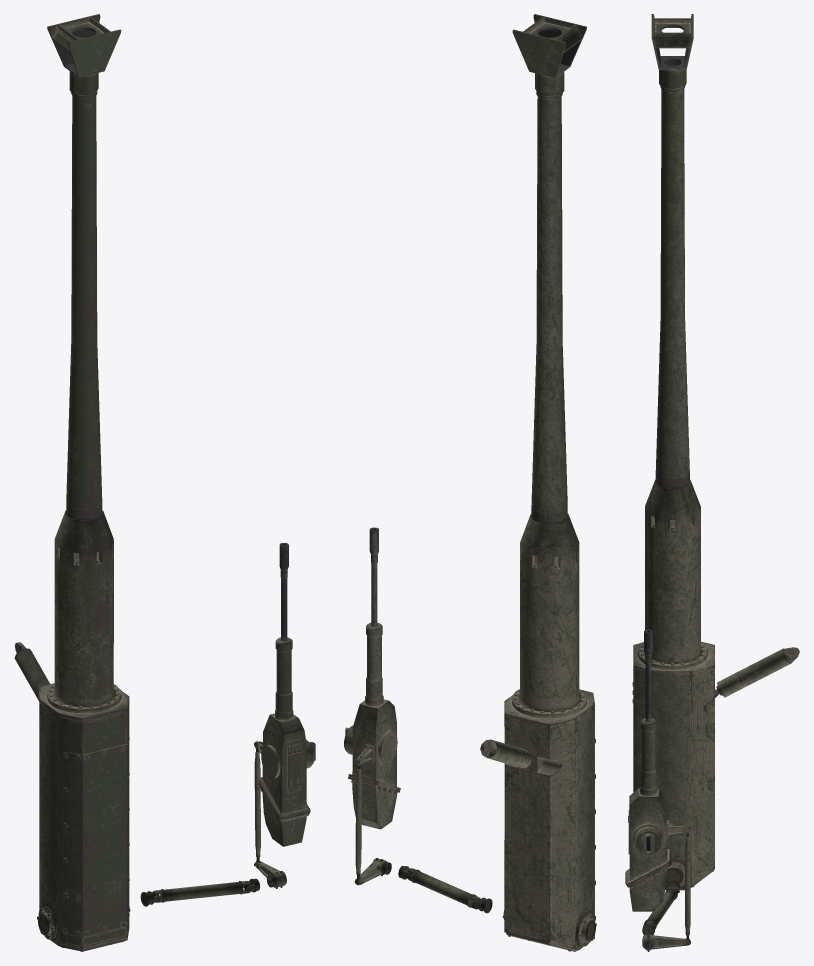
The model's file is Gun_02.glb.
The picture shows the model from 3 angles, left to right: view 1: azimuth 30°, elevation 25°; view 2: azimuth 150°, elevation 25°; view 3: azimuth 270°, elevation 25°; orthographic projection. The views are drawn at different scales.
Parts seen in each view (by area): view 1: set_0_group_0; view 2: set_0_group_0; view 3: set_0_group_0.
Boxes of the visible parts, <box> form: set_0_group_0: <box>14,14,315,951</box>; set_0_group_0: <box>344,14,596,951</box>; set_0_group_0: <box>625,14,799,951</box>.
Size of the model in its own units: 2 by 6.73 by 1.24.
Materials: 1 (1 with a texture image).
